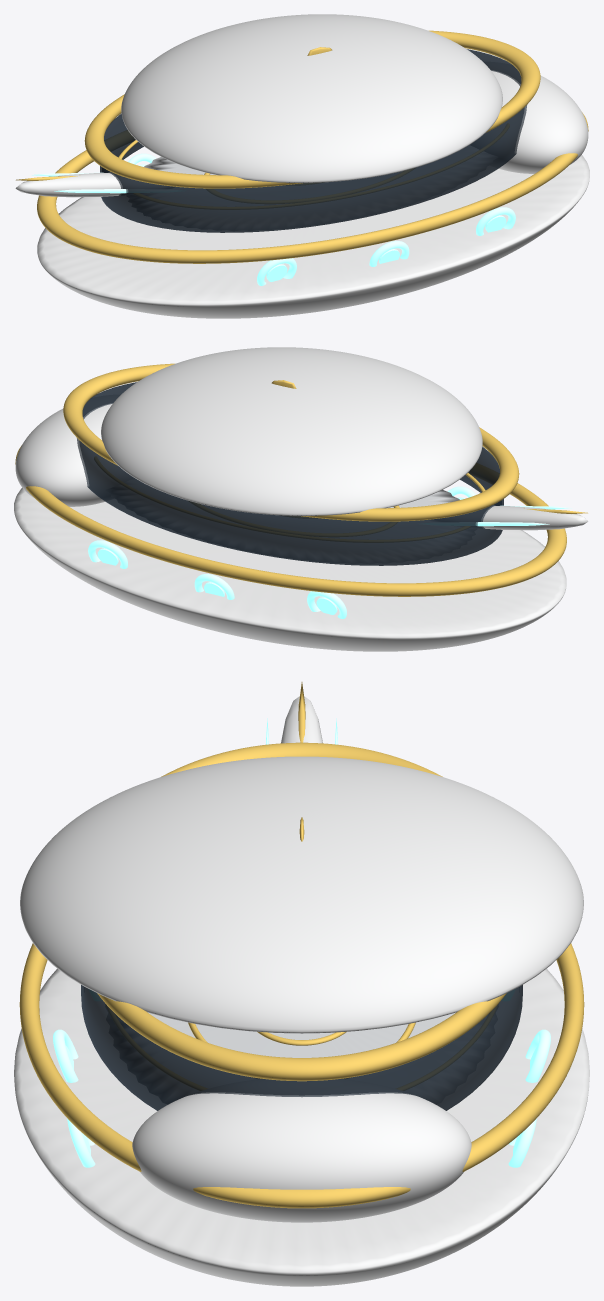
The model's file is ship_platform.glb.
3 renders of one model, top to bottom at view 1: azimuth 30°, elevation 25°; view 2: azimuth 150°, elevation 25°; view 3: azimuth 270°, elevation 25°, orthographic. The views are drawn at different scales.
Parts seen in each view (by area): view 1: Hull_Canopy, Hull_Lower, Glass_Panorama, Trim_Gold_Lower, Trim_Gold_Upper, Hull_Nose, Hull_RearFin, Deck_Floor, Light_Blue_Thruster_3, Light_Blue_Thruster_5, Light_Blue_Thruster_4; view 2: Hull_Canopy, Hull_Lower, Glass_Panorama, Trim_Gold_Lower, Trim_Gold_Upper, Hull_Nose, Hull_RearFin, Deck_Floor, Light_Blue_Thruster_0, Light_Blue_Thruster_2, Light_Blue_Thruster_1; view 3: Hull_Canopy, Hull_Lower, Hull_Nose, Glass_Panorama, Trim_Gold_Lower, Trim_Gold_Upper, Deck_Floor, Hull_RearFin, Light_Blue_Thruster_1, Light_Blue_Thruster_4.
Part boxes in pixels (x1,y1,x2,y2): Hull_Canopy: [121, 14, 502, 182]; Hull_Lower: [37, 155, 589, 318]; Glass_Panorama: [100, 49, 526, 232]; Trim_Gold_Lower: [37, 112, 588, 263]; Trim_Gold_Upper: [84, 30, 540, 188]; Hull_Nose: [490, 69, 588, 173]; Hull_RearFin: [15, 172, 122, 197]; Deck_Floor: [144, 157, 216, 175]; Light_Blue_Thruster_3: [476, 207, 515, 235]; Light_Blue_Thruster_5: [257, 258, 296, 285]; Light_Blue_Thruster_4: [369, 241, 409, 266]; Hull_Canopy: [101, 347, 482, 515]; Hull_Lower: [14, 488, 566, 651]; Glass_Panorama: [77, 382, 503, 565]; Trim_Gold_Lower: [15, 445, 566, 596]; Trim_Gold_Upper: [63, 363, 519, 521]; Hull_Nose: [15, 402, 113, 506]; Hull_RearFin: [481, 505, 588, 530]; Deck_Floor: [387, 490, 459, 508]; Light_Blue_Thruster_0: [88, 540, 127, 568]; Light_Blue_Thruster_2: [307, 591, 346, 618]; Light_Blue_Thruster_1: [194, 574, 234, 599]; Hull_Canopy: [20, 756, 583, 1033]; Hull_Lower: [14, 968, 589, 1286]; Hull_Nose: [132, 1092, 471, 1222]; Glass_Panorama: [81, 985, 522, 1110]; Trim_Gold_Lower: [19, 943, 584, 1208]; Trim_Gold_Upper: [97, 742, 506, 1081]; Deck_Floor: [148, 1012, 455, 1057]; Hull_RearFin: [281, 696, 322, 743]; Light_Blue_Thruster_1: [525, 1029, 550, 1082]; Light_Blue_Thruster_4: [53, 1029, 78, 1082].
Bounding box in the file's own units: 18.18 × 6.94 × 10.34.
